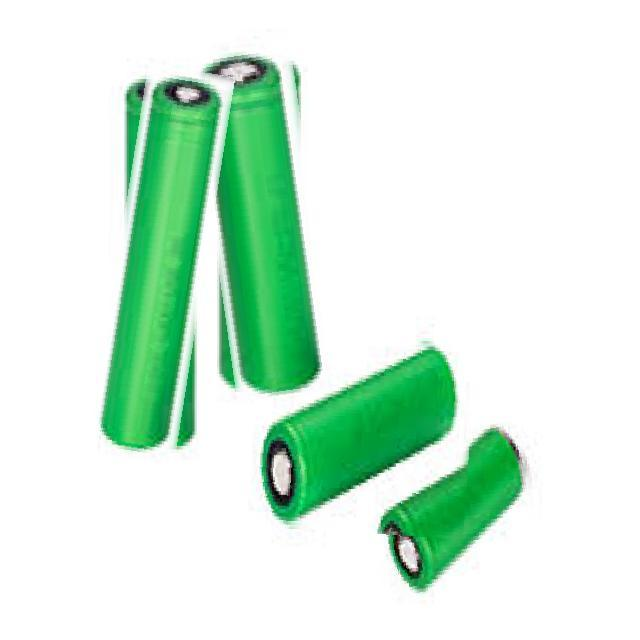Battery: (87, 72, 232, 459), (202, 44, 325, 395), (246, 332, 465, 522), (371, 415, 536, 604)
